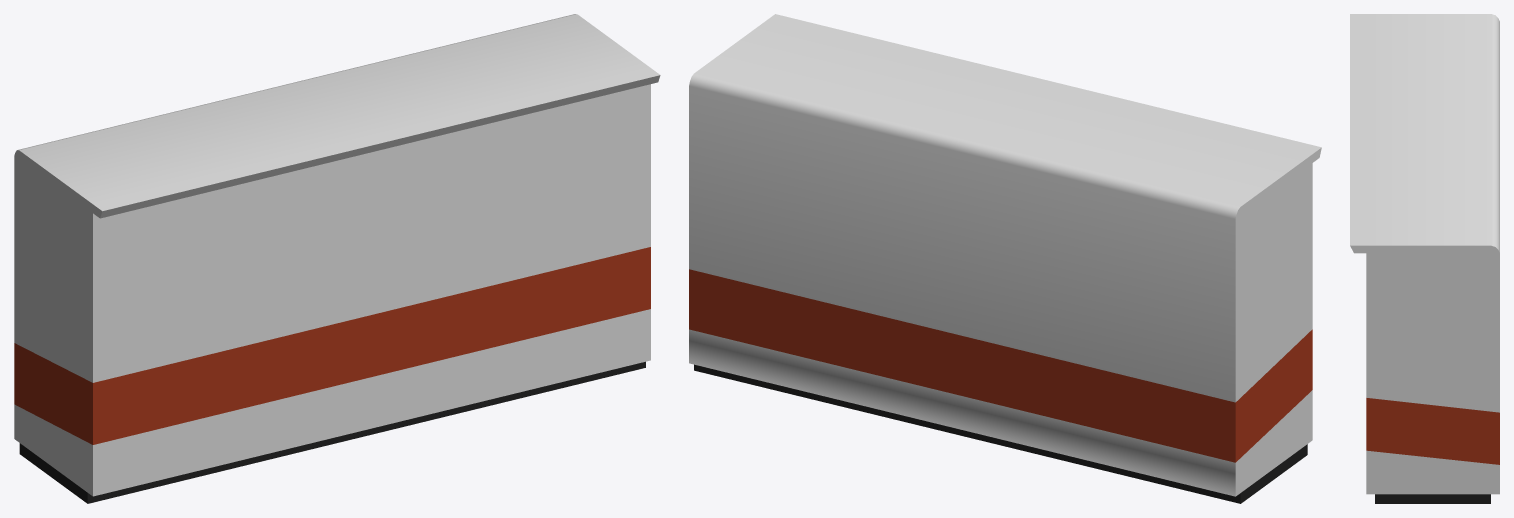
Rendered from desk_7.glb.
The picture shows the model from 3 angles, left to right: view 1: azimuth 30°, elevation 25°; view 2: azimuth 150°, elevation 25°; view 3: azimuth 270°, elevation 25°; orthographic projection. The views are drawn at different scales.
Visible parts, largest first — view 1: Desk_1; view 2: Desk_1; view 3: Desk_1.
Boxes of the visible parts, x1,y1,x2,y2 form: Desk_1: (14,14,660,503); Desk_1: (689,14,1321,503); Desk_1: (1350,14,1499,503).
Bounding box in the file's own units: 2 × 1.04 × 0.5467.
1 material, 1 textured.
